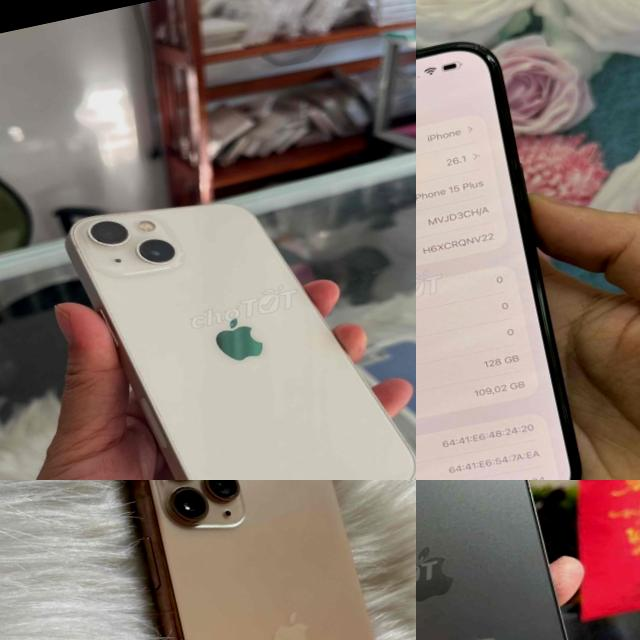gen_11: (100, 480, 416, 640)
gen_12_13: (63, 158, 416, 480), (416, 480, 601, 640)
gen_15: (416, 27, 605, 480)
